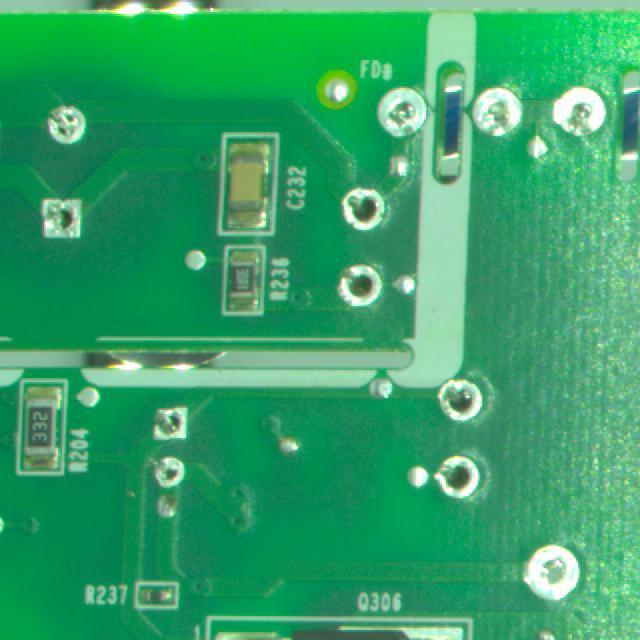oppostie_direction: (524, 545, 580, 599), (552, 86, 606, 136), (377, 87, 427, 137), (473, 88, 523, 136), (434, 456, 480, 498), (438, 379, 482, 422), (339, 264, 381, 306), (343, 188, 384, 230), (94, 1, 215, 14), (43, 199, 81, 238), (48, 106, 85, 144), (154, 406, 186, 439), (154, 456, 185, 488)
